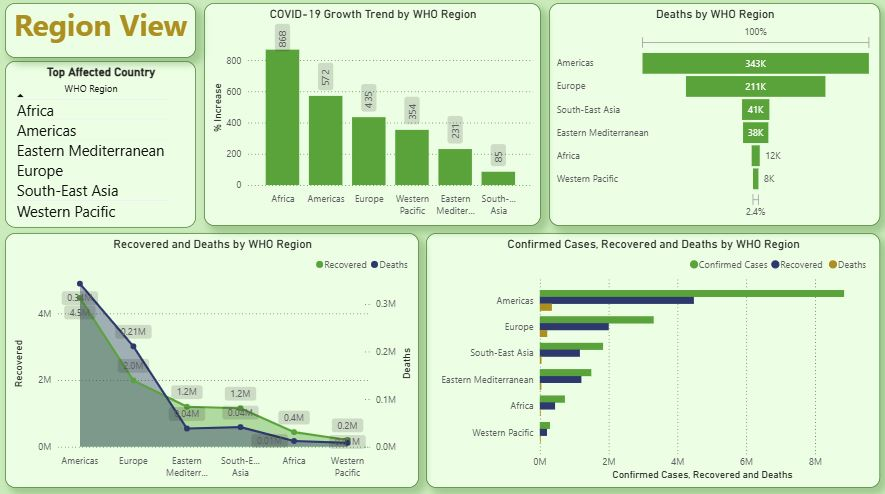

Layout of this report page (visuals, bound fields, positions):
{"tool":"powerbi","page":{"name":"Region View","canvas":[1280,720],"ordinal":2},"visuals":[{"type":"clusteredBarChart","fields":{"Category":["country_wise_Covid19.WHO Region"],"Y":["Table.Total Confirmed","Table.Total Recovered","Table.Total Deaths"]},"box":[616.3,342.7,653.8,367.2],"z":0},{"type":"funnel","fields":{"Category":["country_wise_Covid19.WHO Region"],"Y":["Sum(country_wise_Covid19.Deaths)"]},"box":[793.4,11.5,476.6,321.1],"z":1000},{"type":"areaChart","fields":{"Category":["country_wise_Covid19.WHO Region"],"Y":["Sum(country_wise_Covid19.Recovered)"],"Y2":["Sum(country_wise_Covid19.Deaths)"]},"box":[10.1,342.7,596.2,367.2],"z":2000},{"type":"columnChart","title":"COVID-19 Growth Trend by WHO Region","fields":{"Category":["country_wise_Covid19.WHO Region"],"Y":["Sum(country_wise_Covid19.1 week % increase)"]},"box":[296.6,11.5,485.3,321.1],"z":3000},{"type":"tableEx","title":"Top Affected Country","fields":{"Values":["country_wise_Covid19.WHO Region"]},"box":[10.1,95,275,240],"z":4000},{"type":"textbox","box":[10.1,11.5,275,79.2],"z":5000},{"type":"shape","box":[11.5,7.2,273.6,82.1],"z":5001}]}

Visuals, with their boxes in screenshot pixels (x1, y1, x2, y2), scaled from the page's 1280x720 canvas onto the 885x494 screenshot:
clusteredBarChart - country_wise_Covid19.WHO Region x Table.Total Confirmed: <box>426,235,878,487</box>
funnel - country_wise_Covid19.WHO Region x Sum(country_wise_Covid19.Deaths): <box>549,8,878,228</box>
areaChart - country_wise_Covid19.WHO Region x Sum(country_wise_Covid19.Recovered): <box>7,235,419,487</box>
"COVID-19 Growth Trend by WHO Region" columnChart: <box>205,8,541,228</box>
"Top Affected Country" tableEx: <box>7,65,197,230</box>
textbox: <box>7,8,197,62</box>
shape: <box>8,5,197,61</box>
